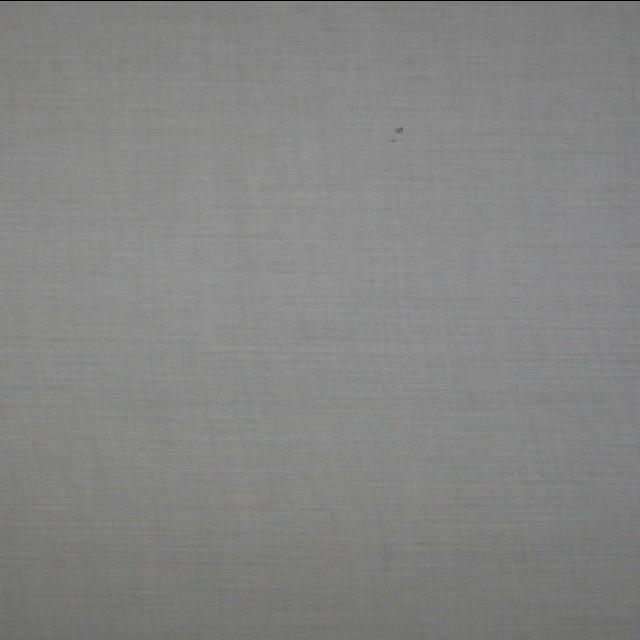dirty: (386, 124, 406, 142)
